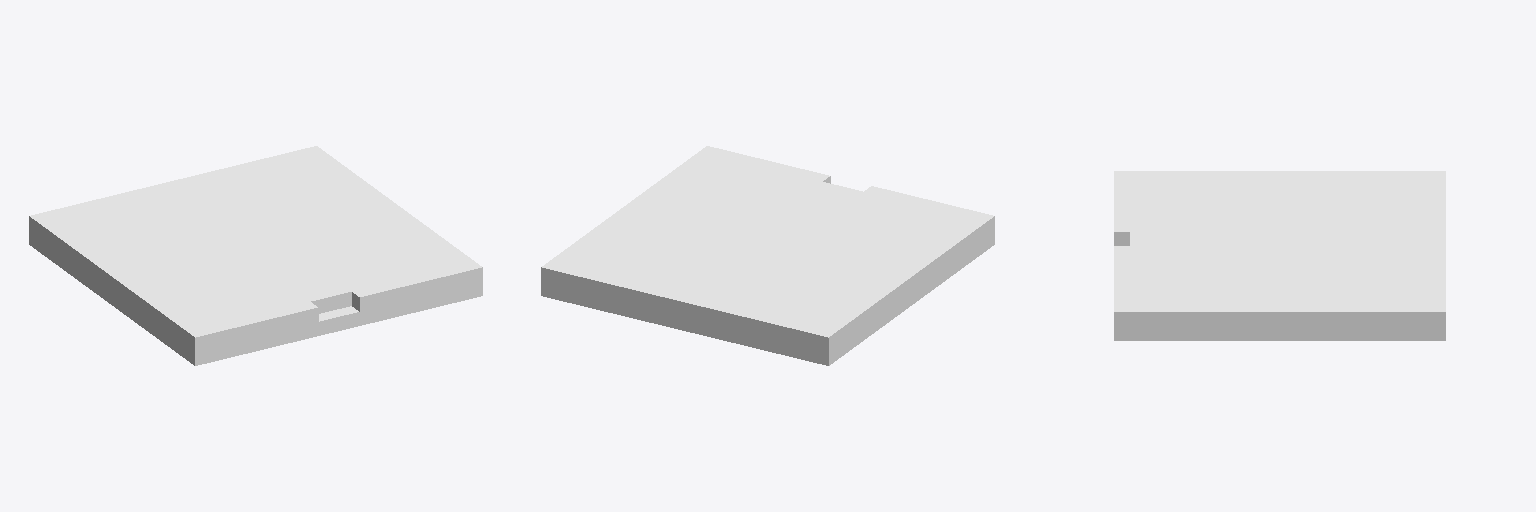
Rendered from pizzabox.obj.
3 views of the same model, side by side, from view 1: azimuth 30°, elevation 25°; view 2: azimuth 150°, elevation 25°; view 3: azimuth 270°, elevation 25° (orthographic).
Size of the model in its own units: 1.05 by 0.1 by 1.05.